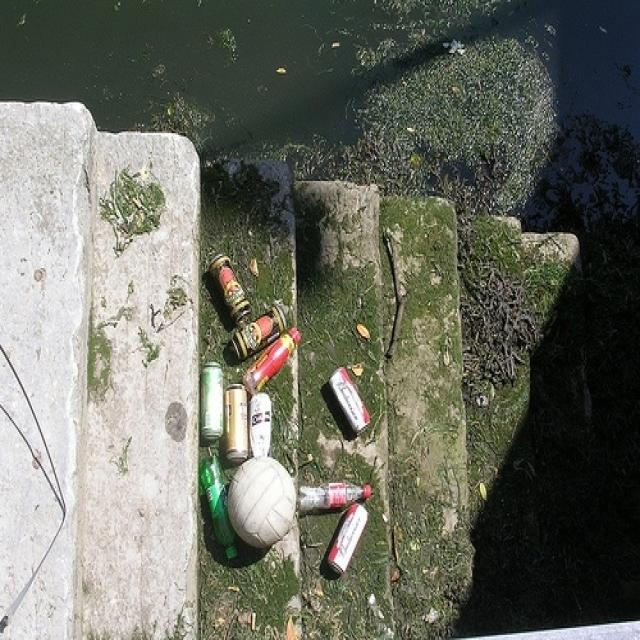Plastics: (240, 320, 306, 386), (299, 470, 379, 520)
can: (211, 234, 283, 350), (200, 356, 250, 464), (328, 356, 380, 452), (322, 509, 378, 591)
